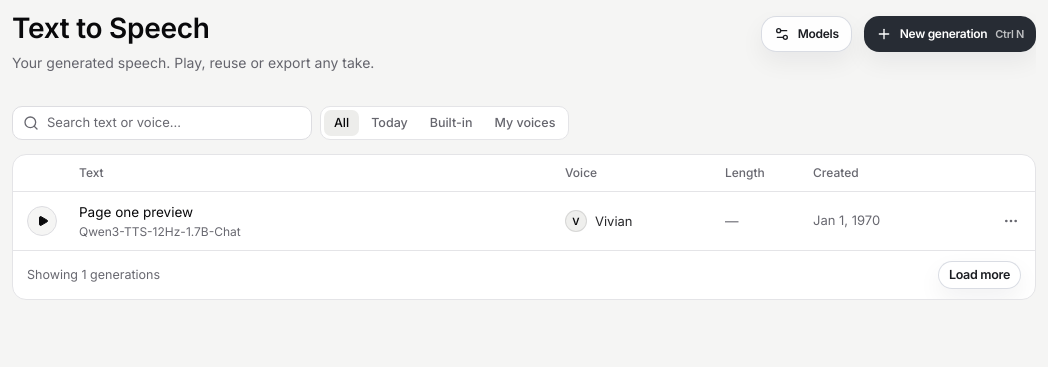
it: TextToSpeechPage › loads more text-to-speech history rows
Expected: the text "Page one preview" is shown, [79,204,193,220]
Click the button "Load more".
click(979, 275)  # box [938,261,1021,289]
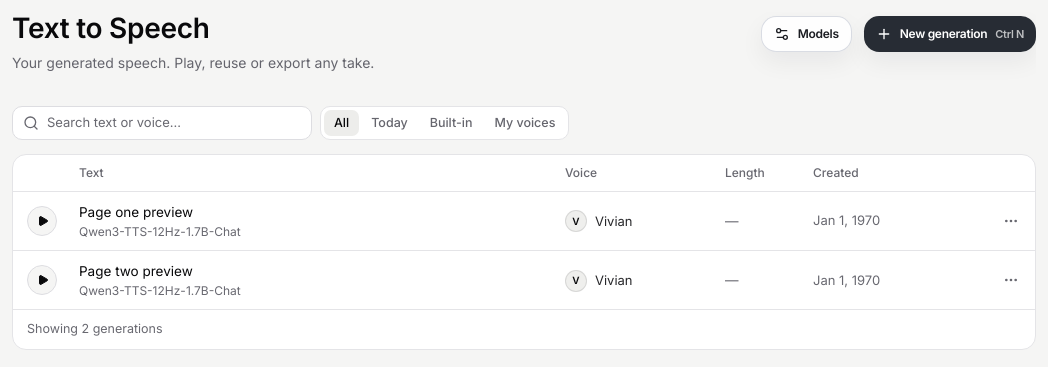
Expected: the text "Page one preview" is shown, [79,204,193,220]
Result: the text "Page two preview" is shown at [79,263,193,279]
